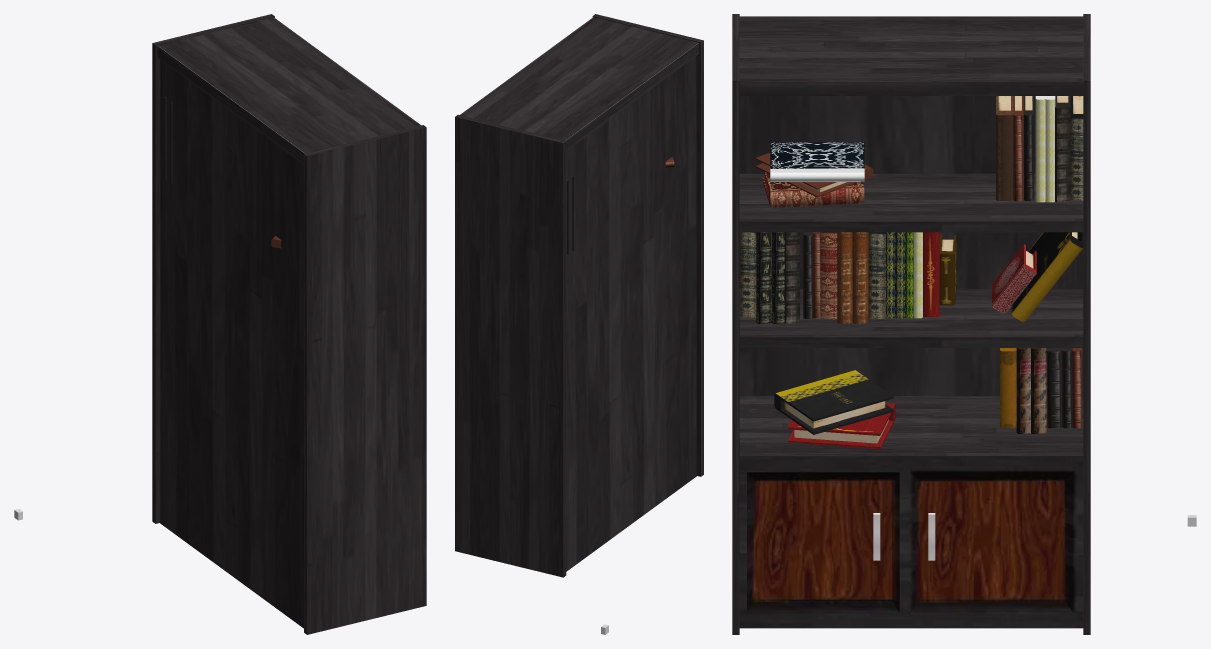
Rendered from furniture_bookcase.glb.
3 views of the same model, side by side, from view 1: azimuth 30°, elevation 25°; view 2: azimuth 150°, elevation 25°; view 3: azimuth 270°, elevation 25° (orthographic). The views are drawn at different scales.
Parts seen in each view (by area): view 1: pCube3_back_wall_0, pCube7_wall_one_0, pCube5_top_wall_0; view 2: pCube3_back_wall_0, pCube7_wall_one_0, pCube5_top_wall_0, pCube69_s4l_0; view 3: pCube4_book_self_box_0, pCube3_back_wall_0, pCube13_first_self_0, pCube5_top_wall_0, pCube7_wall_one_0, pCube31_one_of_three_0, pCube16_another_0, pCube25_second_bottom_first_self_0, pCube53_top_book_0, pCube41_book_one_red_0, pCube26_first_self_book_0, pCube75_another_2_0 (+13 smaller).
Boxes of the visible parts, x1,y1,x2,y2 form: pCube3_back_wall_0: [160, 60, 303, 628]; pCube7_wall_one_0: [152, 14, 426, 634]; pCube5_top_wall_0: [157, 17, 421, 164]; pCube3_back_wall_0: [566, 56, 696, 571]; pCube7_wall_one_0: [455, 14, 703, 577]; pCube5_top_wall_0: [460, 17, 698, 150]; pCube69_s4l_0: [567, 176, 574, 254]; pCube4_book_self_box_0: [739, 396, 1083, 628]; pCube3_back_wall_0: [739, 96, 1083, 395]; pCube13_first_self_0: [739, 173, 1083, 347]; pCube5_top_wall_0: [739, 16, 1083, 95]; pCube7_wall_one_0: [732, 14, 1090, 634]; pCube31_one_of_three_0: [774, 370, 893, 434]; pCube16_another_0: [740, 96, 1083, 319]; pCube25_second_bottom_first_self_0: [803, 96, 1072, 428]; pCube53_top_book_0: [770, 142, 864, 181]; pCube41_book_one_red_0: [787, 232, 939, 449]; pCube26_first_self_book_0: [755, 96, 1082, 428]; pCube75_another_2_0: [762, 171, 864, 319].
Bounding box in the file's own units: 72.69 × 160 × 119.
Materials: 26 (24 with a texture image).
